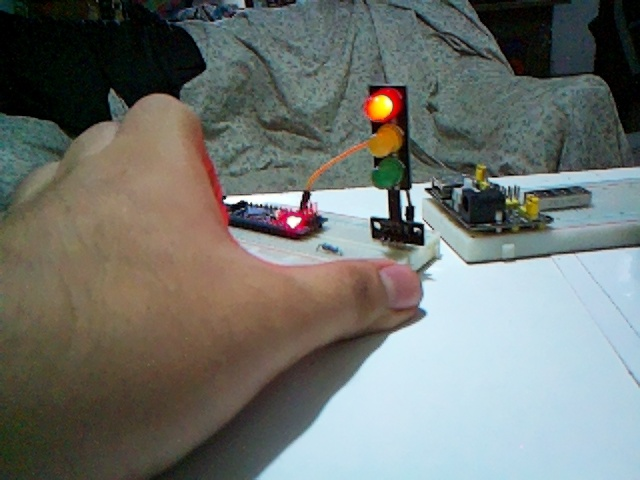traffic_light_red: (366, 86, 412, 229)
